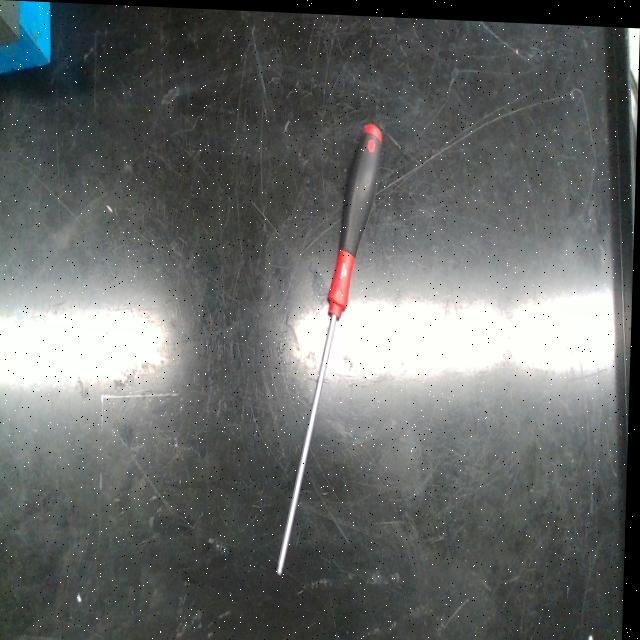Screwdriver: (281, 120, 383, 572)
